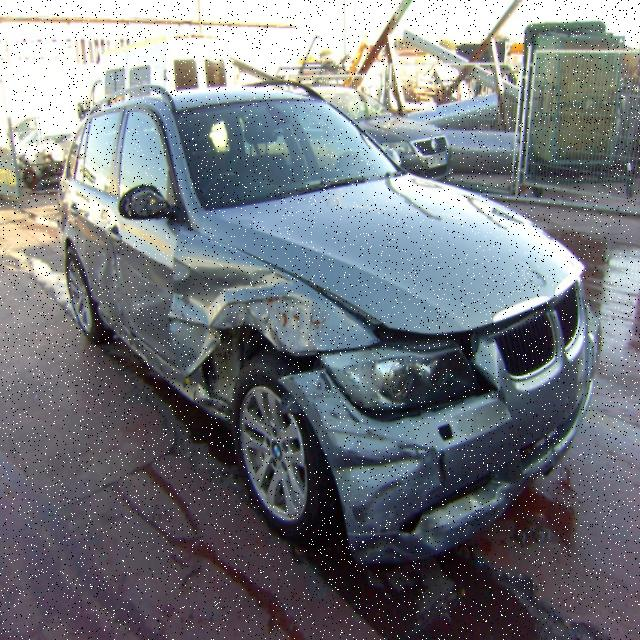damage: (278, 369, 446, 562), (167, 267, 316, 418), (98, 249, 170, 309), (115, 321, 169, 376), (172, 258, 190, 278)
